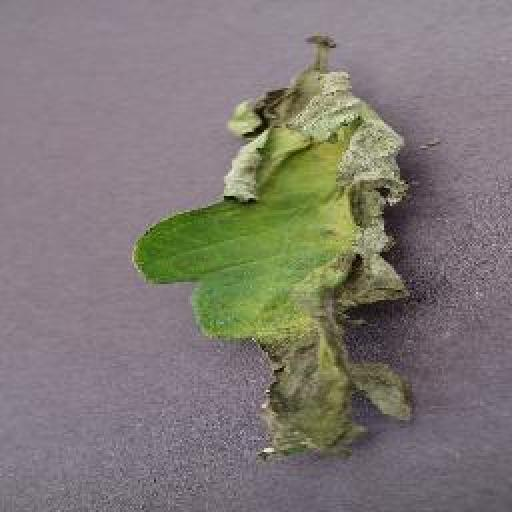Late Blight: (134, 64, 418, 465)
